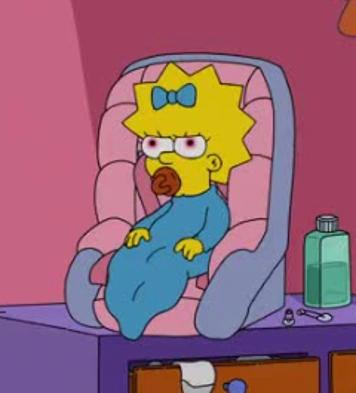Maggie: (93, 68, 265, 332)
